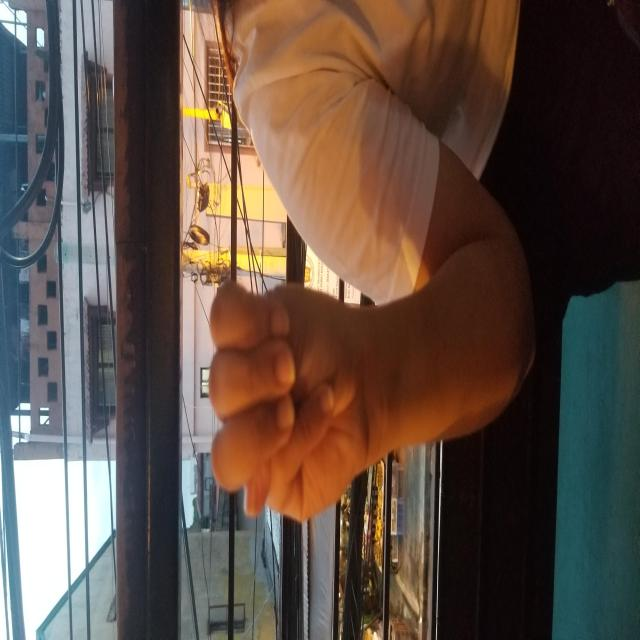M: (141, 238, 410, 560)
